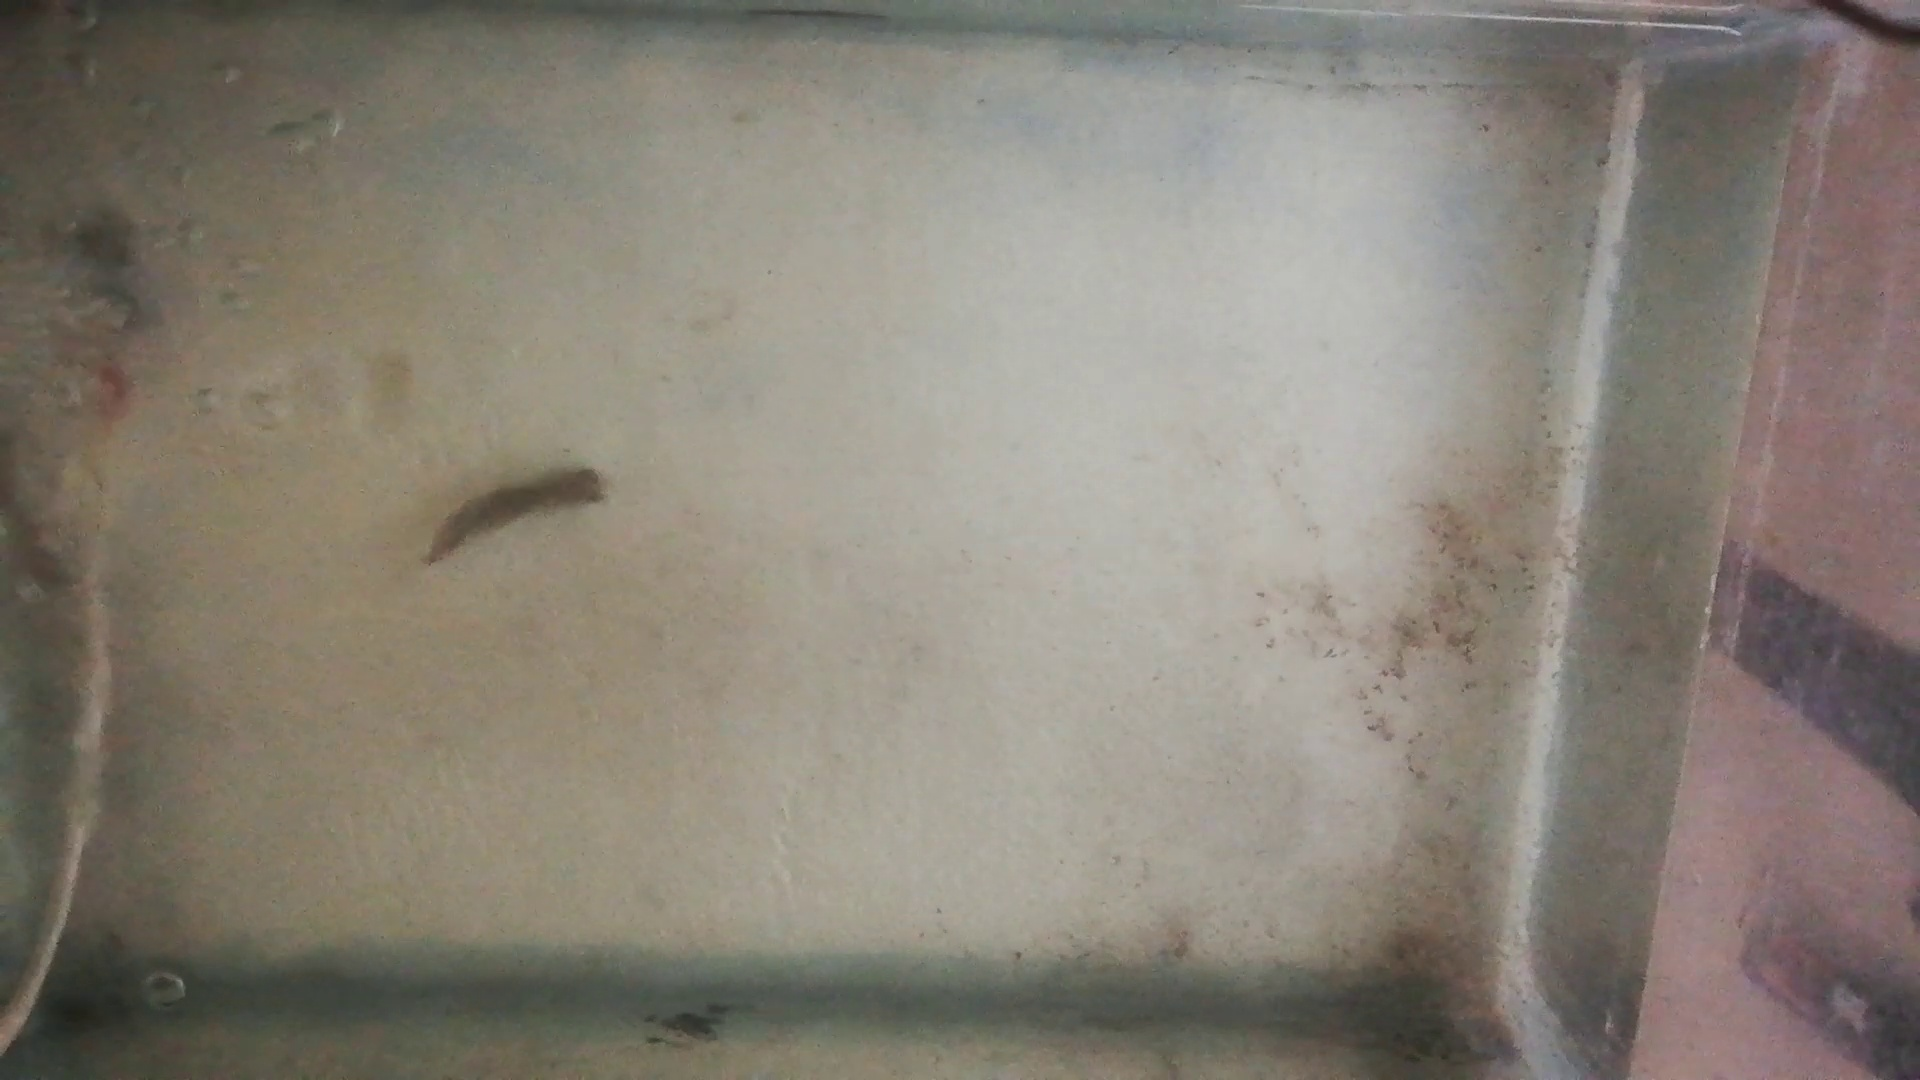fish: (425, 465, 611, 564), (3, 448, 63, 595)
